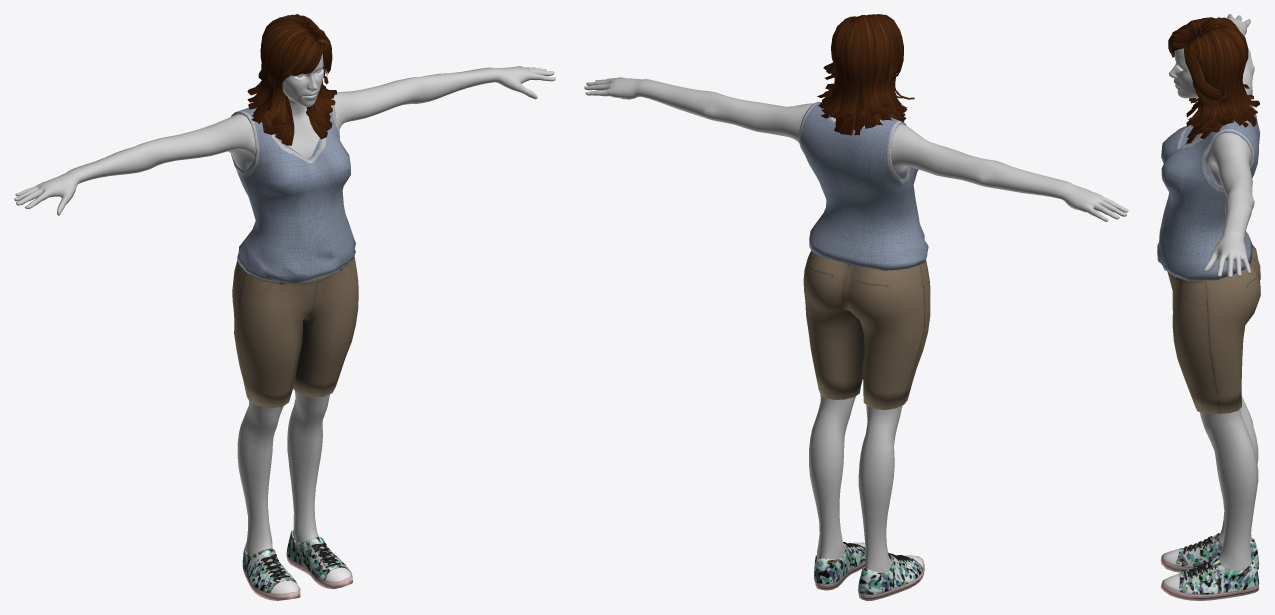
The model's file is ninth_clothes_hair.obj.
The picture shows the model from 3 angles, left to right: view 1: azimuth 30°, elevation 25°; view 2: azimuth 150°, elevation 25°; view 3: azimuth 270°, elevation 25°; orthographic projection.
Visible parts, largest first — view 1: Body, Tops, Bottoms, Hair, Shoes; view 2: Body, Bottoms, Tops, Hair, Shoes; view 3: Body, Bottoms, Tops, Hair, Shoes.
Part boxes in pixels (box(x1,y1,x2,y2)): Body: box(14, 54, 555, 554); Tops: box(231, 105, 355, 283); Bottoms: box(232, 256, 358, 408); Hair: box(247, 14, 336, 145); Shoes: box(242, 529, 352, 600); Body: box(584, 77, 1128, 572); Bottoms: box(803, 250, 930, 409); Tops: box(798, 102, 928, 270); Hair: box(817, 14, 914, 135); Shoes: box(814, 542, 924, 600); Body: box(1169, 14, 1258, 570); Bottoms: box(1167, 245, 1260, 413); Tops: box(1157, 105, 1260, 281); Hair: box(1168, 17, 1259, 143); Shoes: box(1160, 533, 1259, 600).
Bounding box in the file's own units: 17.95 × 17.9 × 3.
